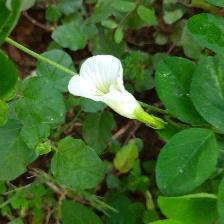shankupushpam: (67, 54, 146, 121)
